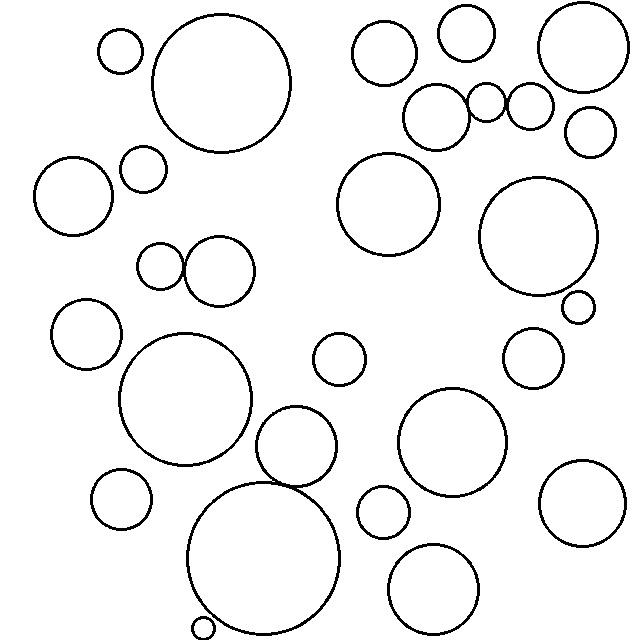circle: (185, 479, 344, 637), (149, 10, 296, 157), (121, 328, 255, 470), (476, 174, 601, 299), (396, 388, 510, 501), (333, 150, 442, 257), (389, 539, 482, 637), (536, 0, 631, 95), (538, 457, 629, 550), (254, 404, 340, 489), (32, 154, 116, 238), (50, 297, 124, 374), (185, 232, 258, 309), (403, 81, 470, 153), (351, 18, 420, 86), (89, 467, 155, 533), (501, 326, 567, 391), (310, 329, 369, 388), (439, 4, 496, 63), (562, 104, 620, 160), (356, 483, 412, 541), (95, 25, 145, 77), (118, 145, 169, 195), (508, 79, 555, 133), (135, 240, 183, 292), (465, 79, 506, 124), (561, 290, 597, 326), (188, 615, 220, 640)
